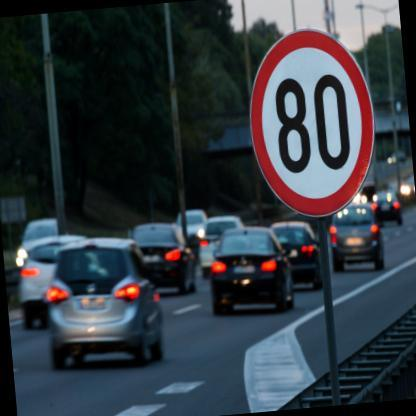road_sign: (251, 31, 375, 220)
